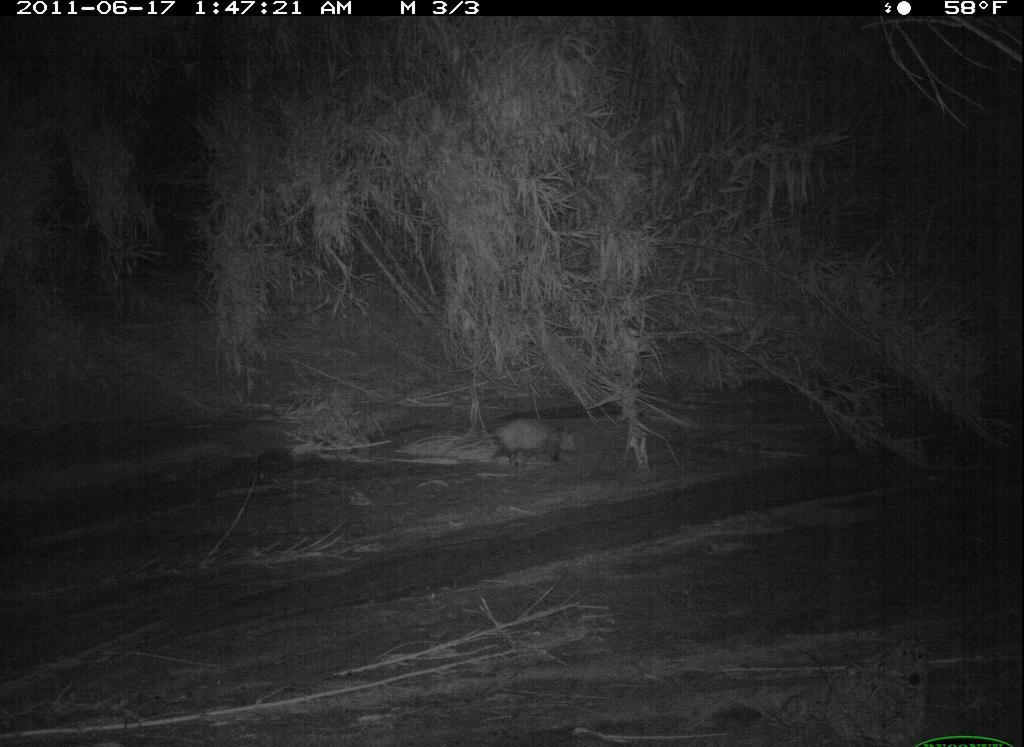opossum: (445, 409, 588, 491)
